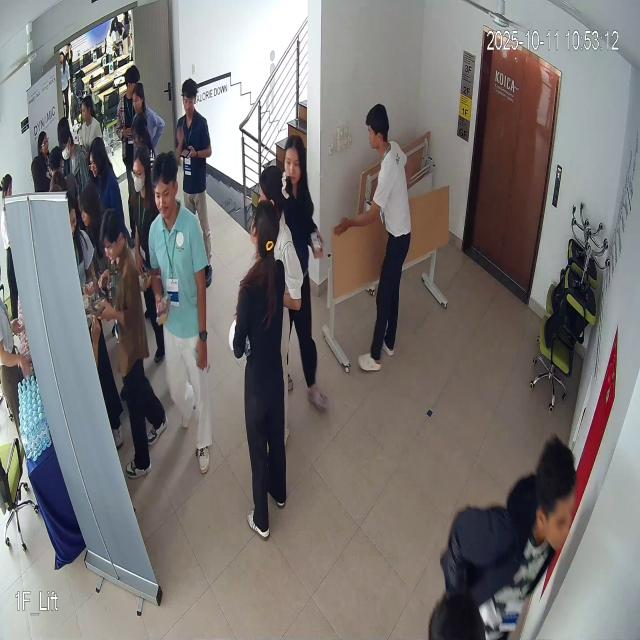face: (148, 150, 182, 224), (98, 204, 130, 274), (283, 134, 311, 196)
